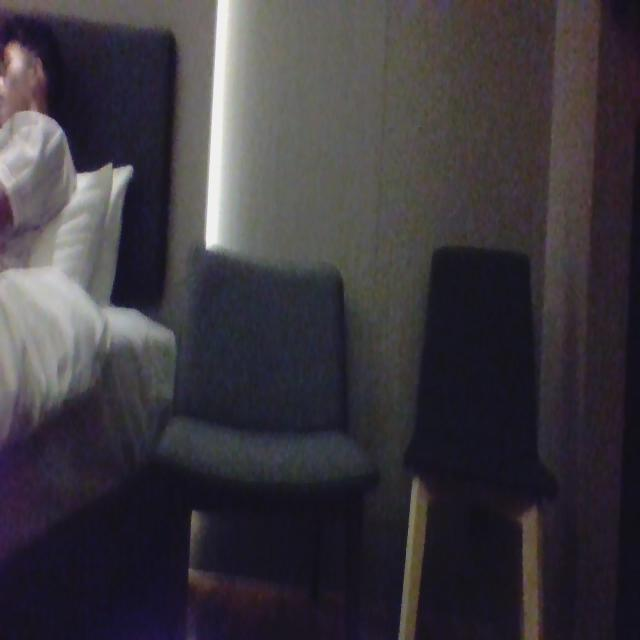empty: (180, 250, 352, 438), (427, 237, 538, 445)
